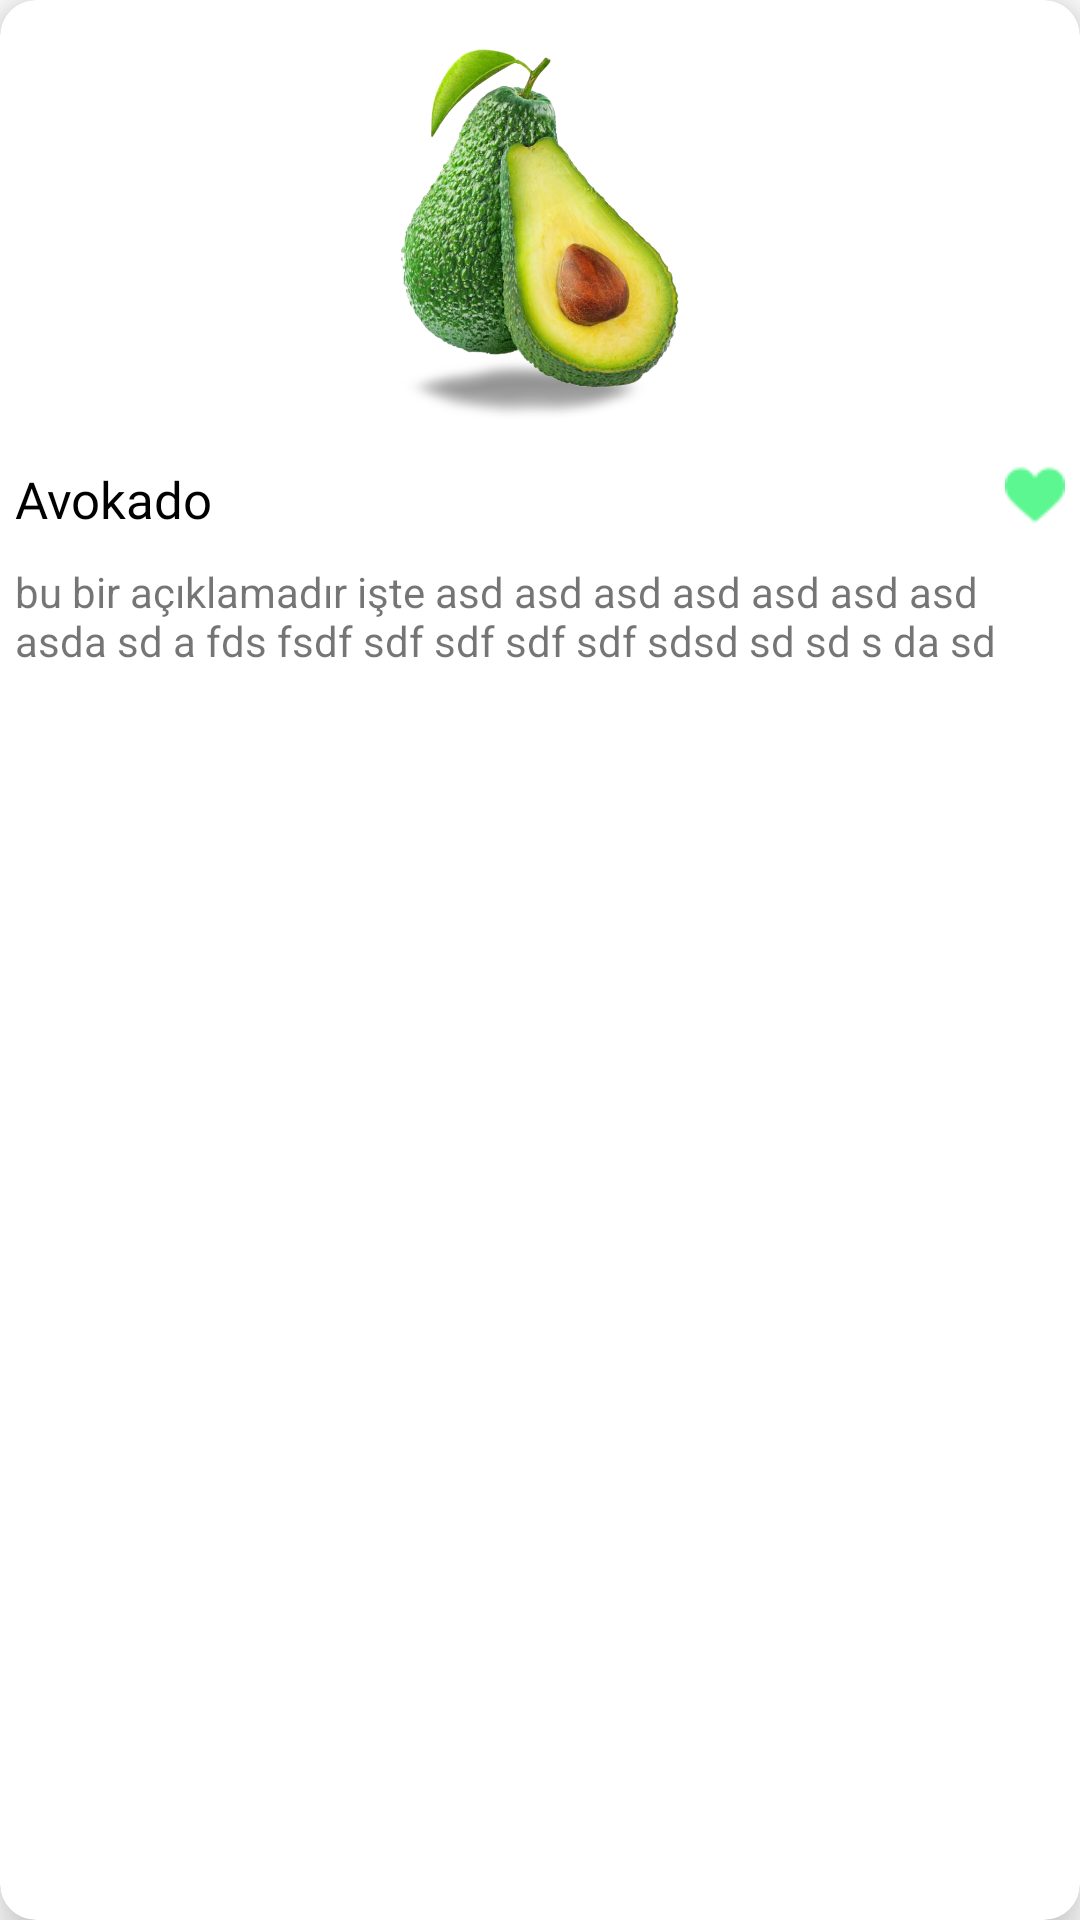

Where to tap for icons on this 1080px×1920px app screen, as (x=x, y=y):
like: (x=1035, y=495)
